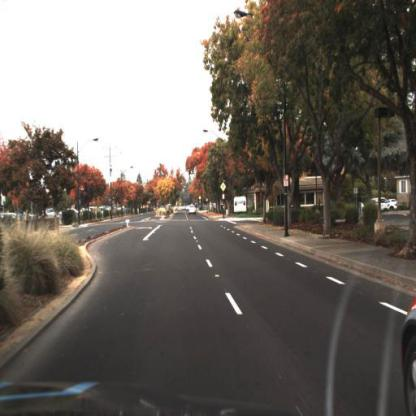car: (369, 198, 395, 214), (388, 195, 399, 214), (188, 203, 198, 217)
